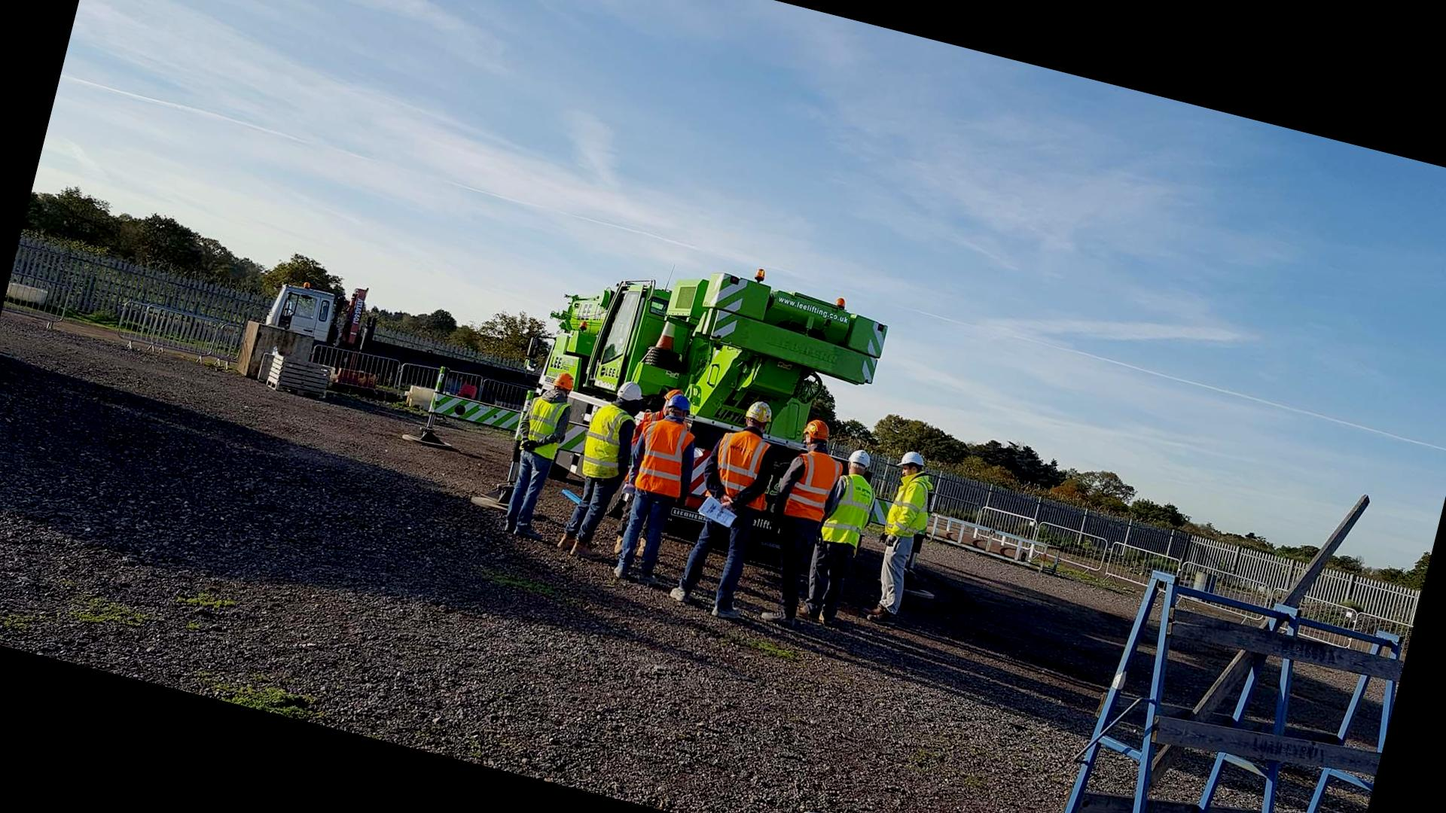person: (539, 363, 657, 564), (755, 405, 854, 618), (693, 385, 792, 595), (616, 384, 703, 590), (802, 443, 890, 644), (860, 445, 952, 629), (499, 361, 584, 551)
